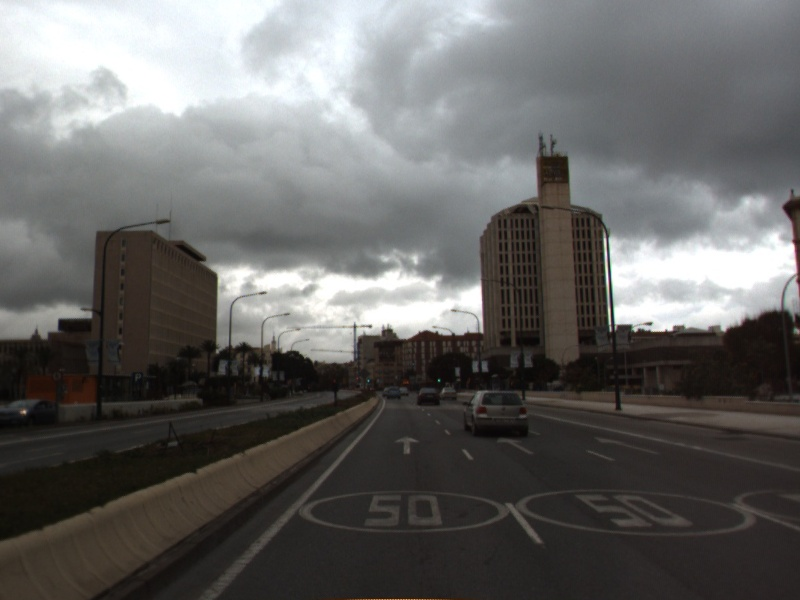STRAIGHT: (592, 435, 662, 457), (495, 435, 537, 457), (393, 433, 422, 456)
